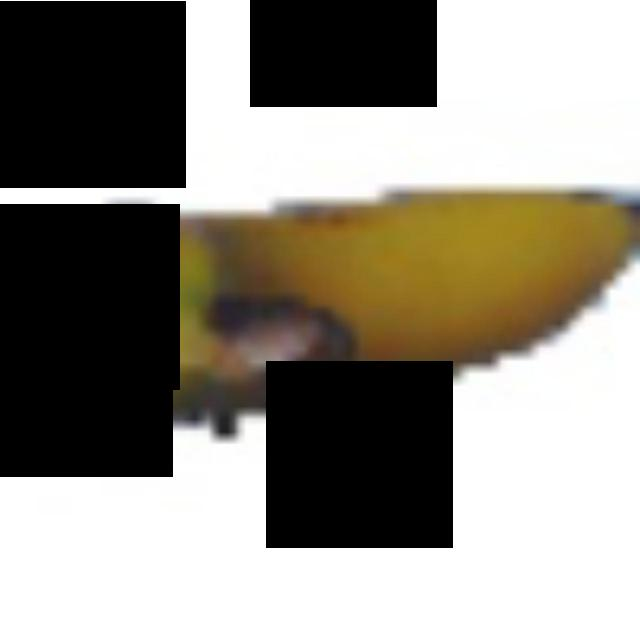banana: (0, 147, 634, 423)
